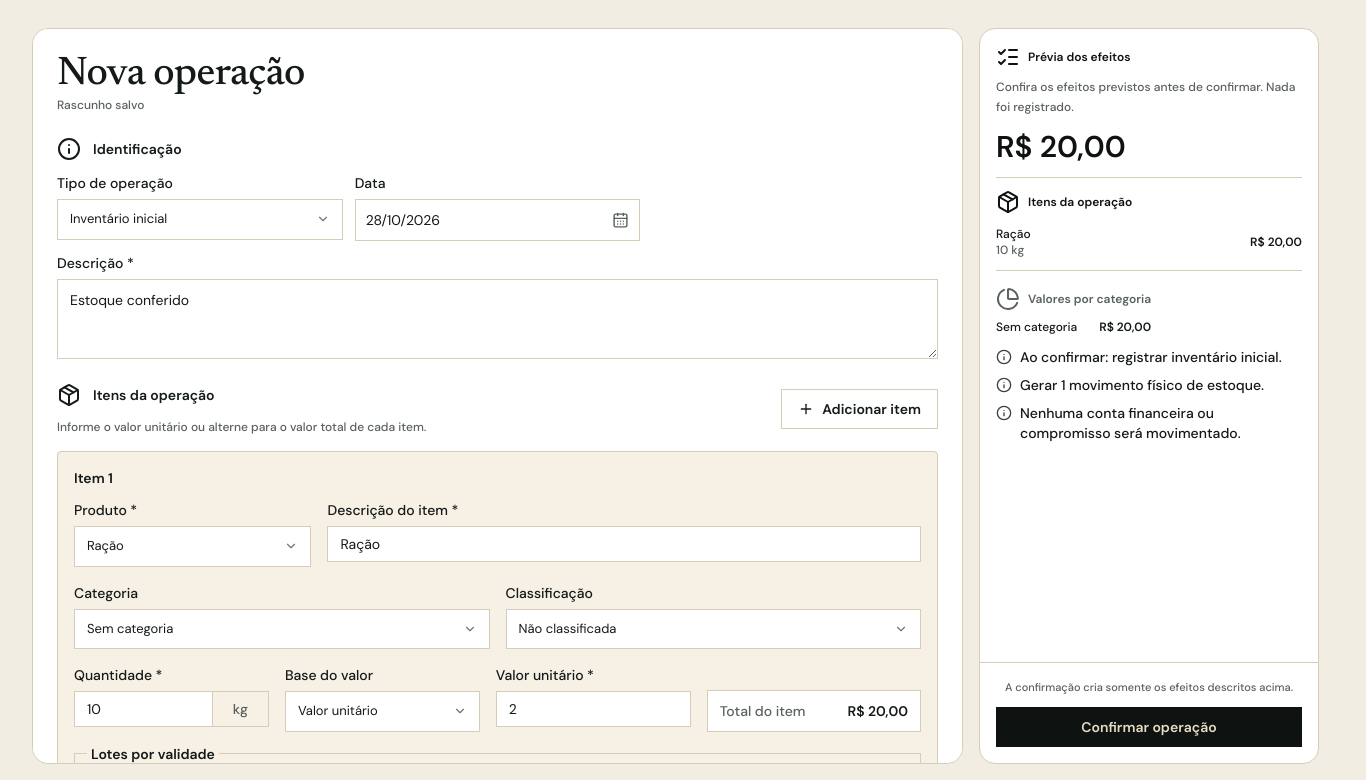
Test case: erros de distribuição dos lotes › exibe soma esperada e informada junto aos lotes e à confirmação, preserva os dados e foca o aviso
Click the button "Confirmar operação" at [1149, 727], box [996,707,1302,747]
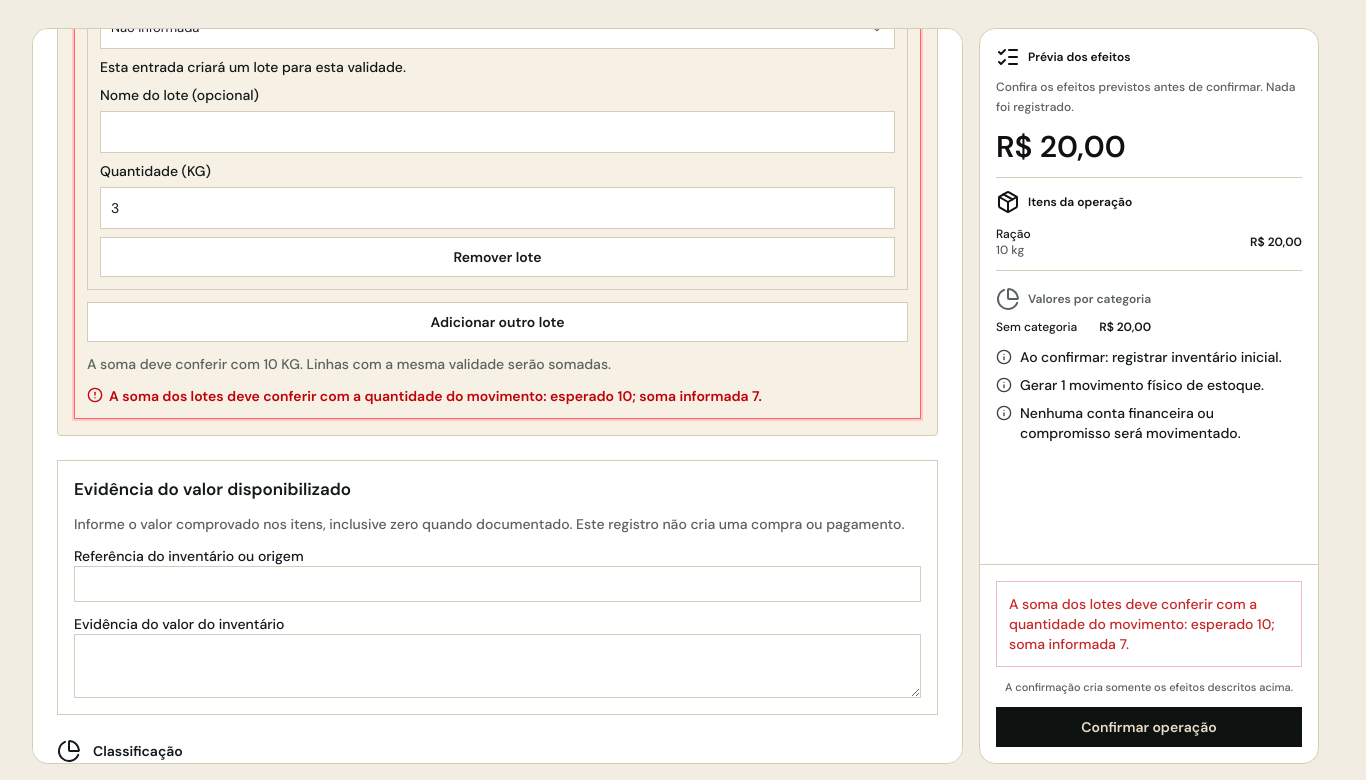
expect the message below "A soma deve conferir com" shows "A soma dos lotes deve conferir com a quantidade do movimento: esperado 10; soma informada 7.": met, box [109,387,762,405]
expect the element with test id "confirmacao-operacao" shows "A soma dos lotes deve conferir com a quantidade do movimento: esperado 10; soma informada 7.": met, box [1009,595,1275,653]
expect the number field named "Quantidade do lote 2" holds "3": met, box [100,187,895,229]
